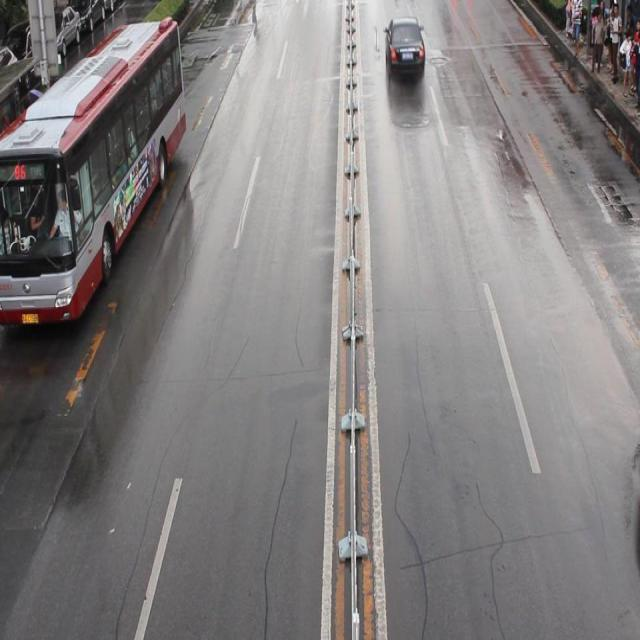car: (382, 16, 423, 74)
van: (1, 17, 186, 321)
